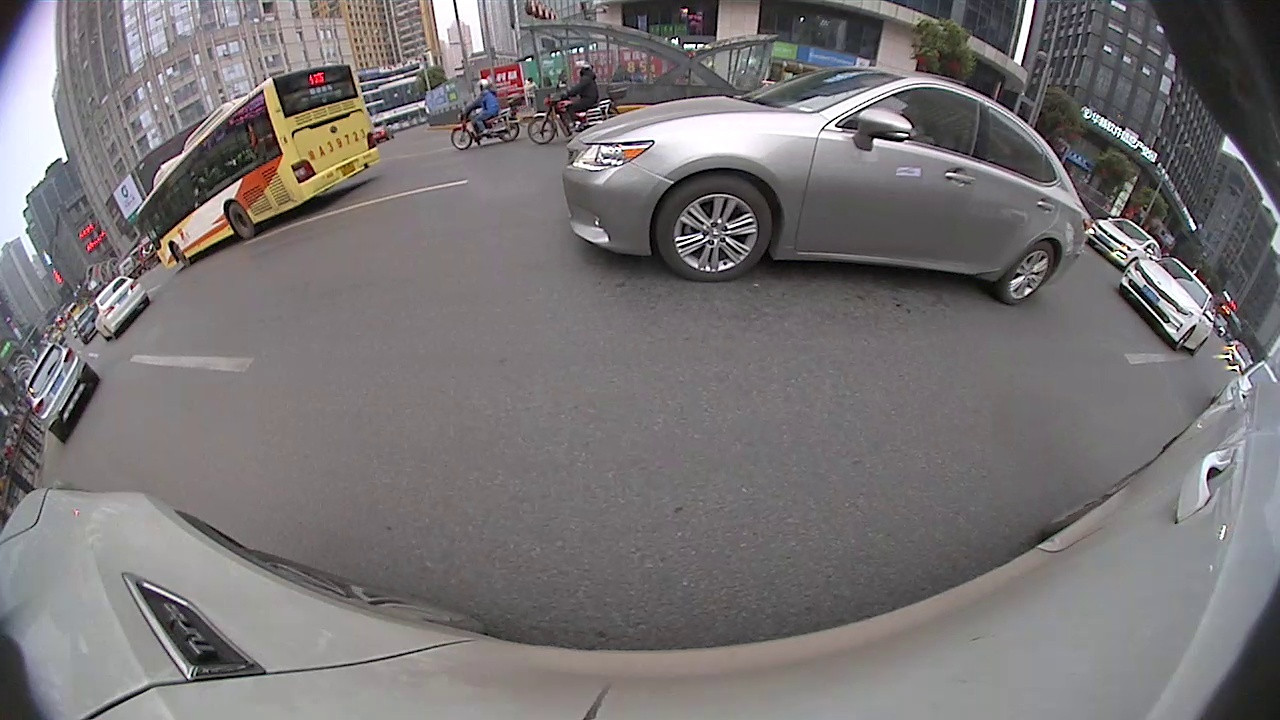bus: (137, 62, 377, 277)
car: (566, 73, 1097, 307), (1117, 257, 1223, 359), (24, 336, 99, 449), (1082, 216, 1167, 271), (89, 274, 150, 344)
front: (652, 174, 775, 285), (526, 116, 560, 147), (169, 243, 193, 270), (451, 125, 474, 150)
rear: (996, 239, 1057, 307), (225, 199, 260, 241), (498, 121, 521, 143)
rider: (533, 62, 619, 147), (453, 77, 524, 151)
